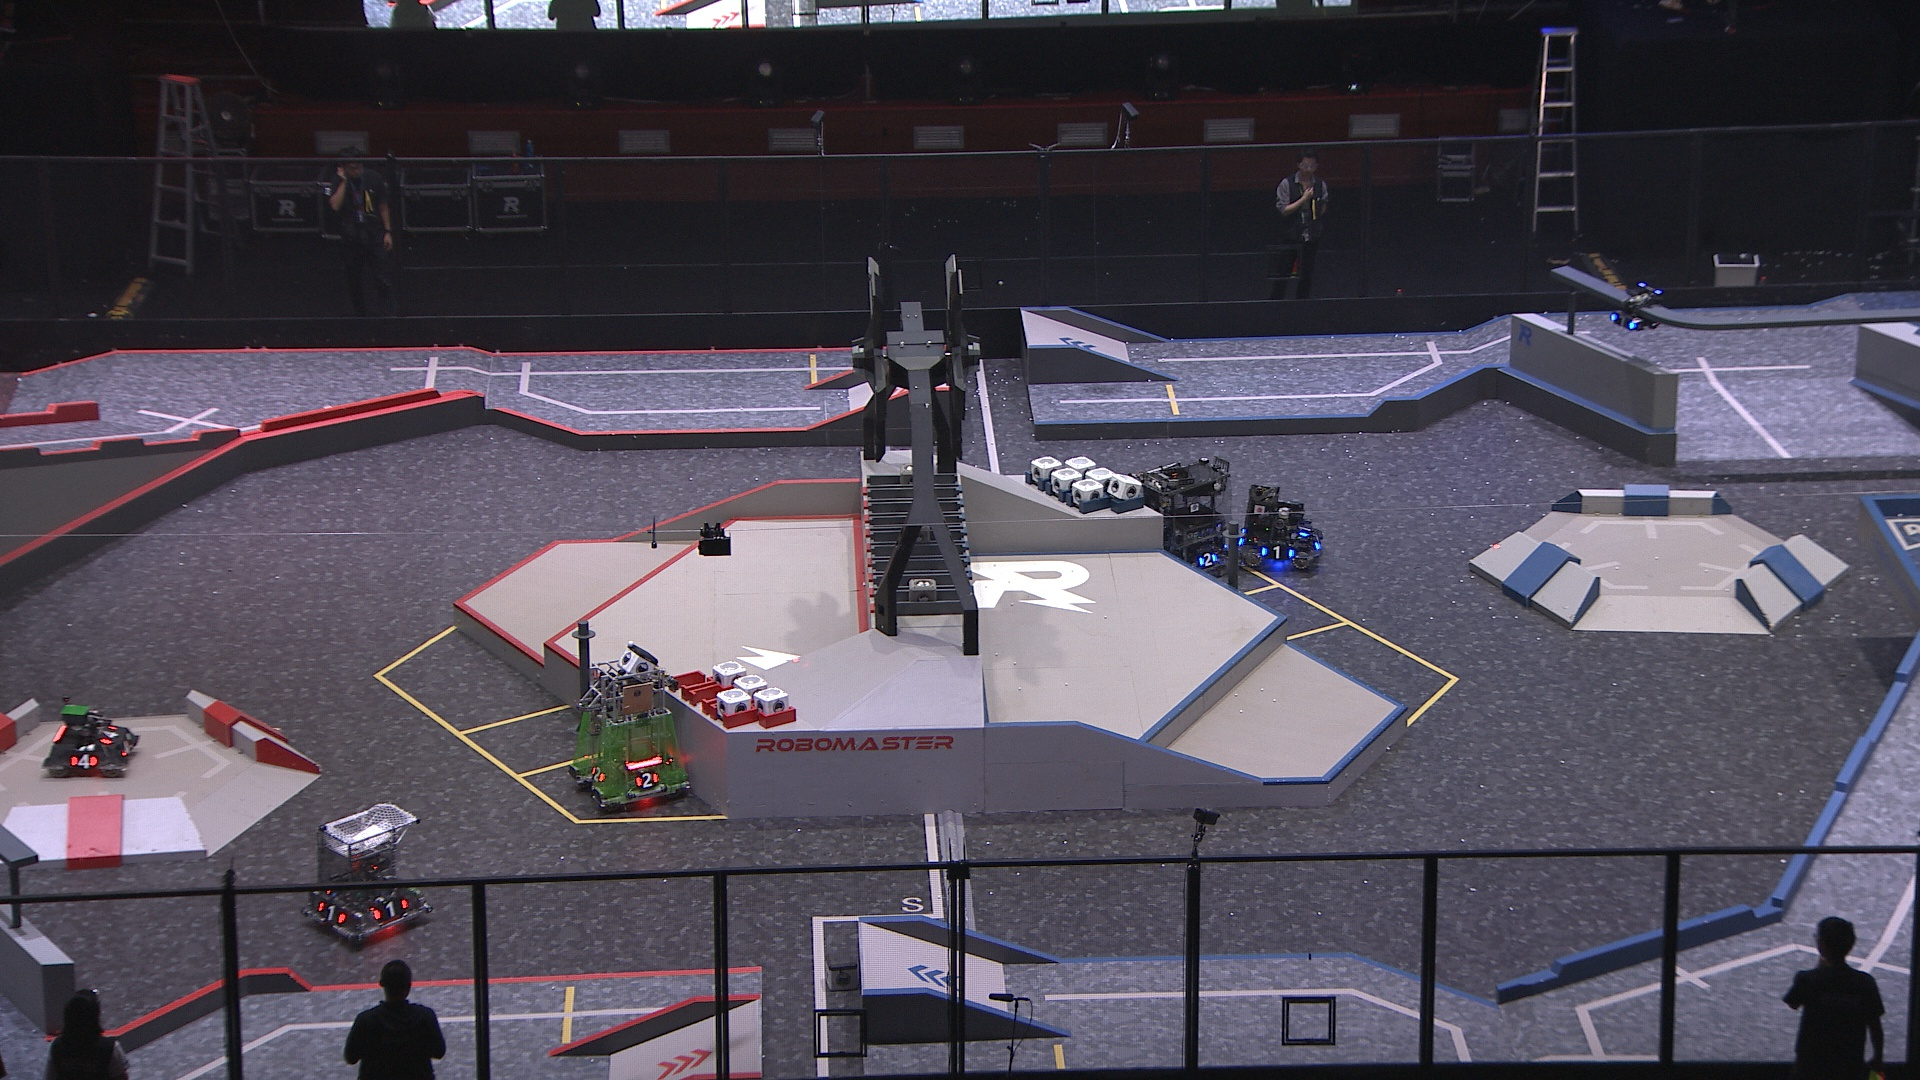armor: (371, 899, 411, 920), (314, 902, 348, 926), (1259, 546, 1296, 560), (1607, 313, 1640, 328), (69, 756, 98, 771), (636, 770, 659, 789), (100, 723, 119, 745), (1195, 553, 1220, 568), (589, 766, 608, 785), (1295, 526, 1313, 541), (1311, 533, 1325, 550), (120, 738, 135, 756)
car: (560, 655, 690, 808), (302, 802, 429, 945), (1127, 456, 1236, 575), (1237, 483, 1328, 572), (44, 698, 136, 778)
watcher: (1602, 281, 1669, 332)
